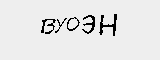В: (39, 15, 56, 38)
Н: (97, 12, 118, 39)
О: (65, 15, 80, 32)
У: (52, 15, 66, 35)
Э: (81, 15, 95, 37)
